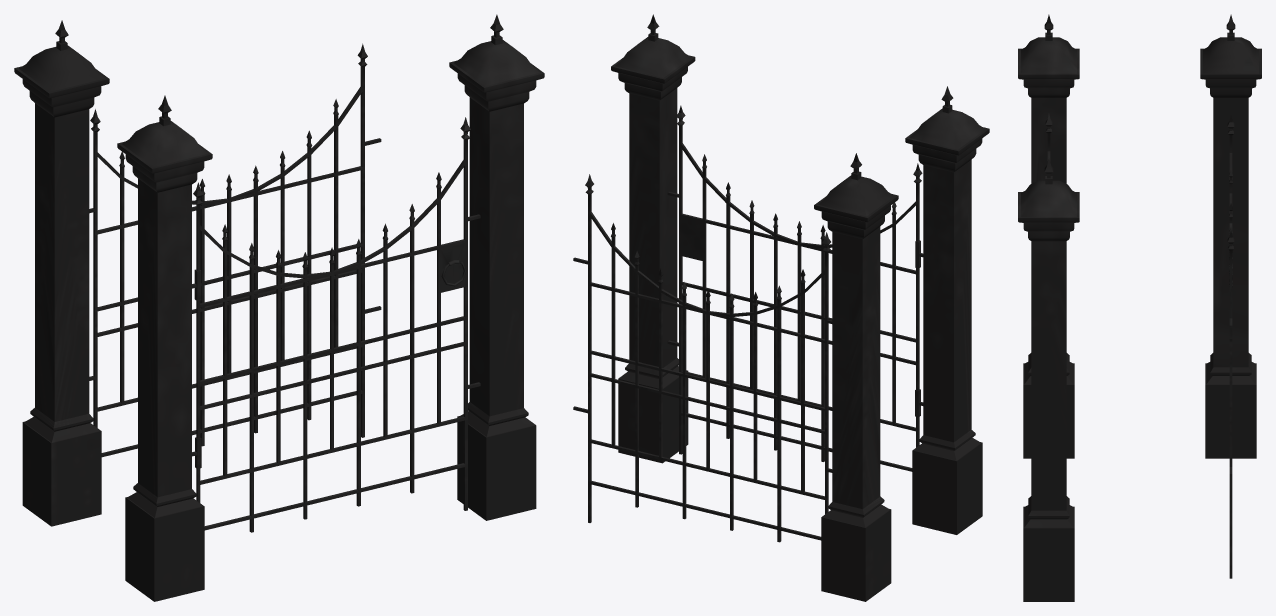
File: SM_MetalFence.fbx
3 views of the same model, side by side, from view 1: azimuth 30°, elevation 25°; view 2: azimuth 150°, elevation 25°; view 3: azimuth 270°, elevation 25° (orthographic). The views are drawn at different scales.
Parts seen in each view (by area): view 1: Metal_gate_frame, Metal_fenceframe, Metal_gate, Metal_fence; view 2: Metal_gate_frame, Metal_fenceframe, Metal_fence, Metal_gate; view 3: Metal_gate_frame, Metal_fenceframe, Metal_fence.
Part boxes in pixels (left/top/right/bottom): Metal_gate_frame: left=117, top=14, right=544, bottom=601; Metal_fenceframe: left=14, top=20, right=109, bottom=526; Metal_gate: left=193, top=117, right=470, bottom=532; Metal_fence: left=89, top=43, right=381, bottom=457; Metal_gate_frame: left=611, top=14, right=989, bottom=534; Metal_fenceframe: left=814, top=153, right=898, bottom=601; Metal_fence: left=573, top=174, right=832, bottom=542; Metal_gate: left=676, top=105, right=922, bottom=471; Metal_gate_frame: left=1018, top=14, right=1079, bottom=601; Metal_fenceframe: left=1200, top=14, right=1261, bottom=458; Metal_fence: left=1227, top=115, right=1234, bottom=578.
Size of the model in its own units: 175 by 209 by 106.
1 material, 1 textured.
